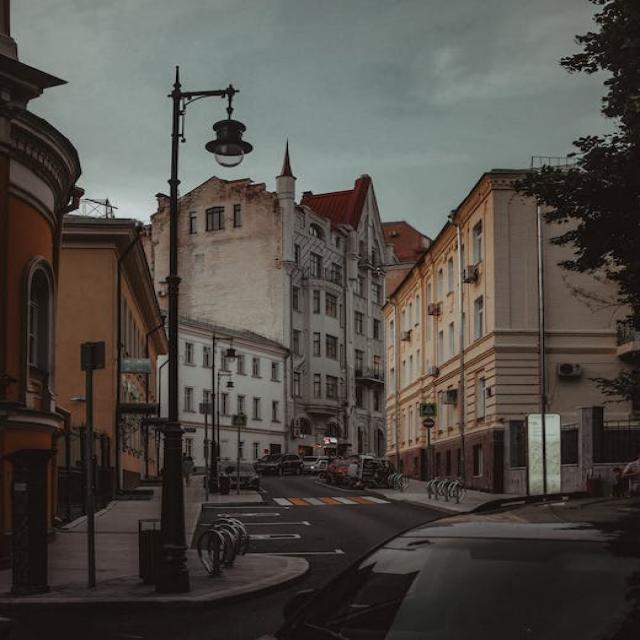no entry: (423, 419, 435, 428)
